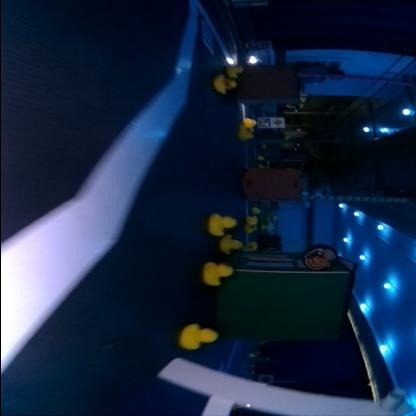Duckie: (180, 323, 216, 345), (203, 261, 233, 284), (208, 212, 236, 235), (214, 74, 236, 94), (220, 235, 242, 254), (227, 64, 243, 76), (239, 128, 253, 140), (246, 240, 258, 250), (246, 215, 258, 224), (245, 118, 257, 127), (245, 224, 257, 232), (251, 207, 261, 213)
Intersection sign: (272, 119, 284, 126)
QR code: (204, 20, 212, 51)
